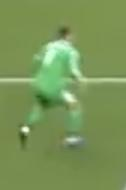goalkeeper: (16, 22, 101, 156)
